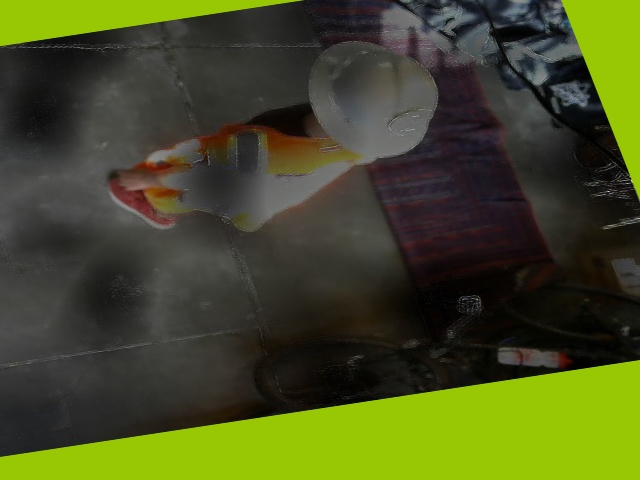two: (384, 107, 437, 137)
